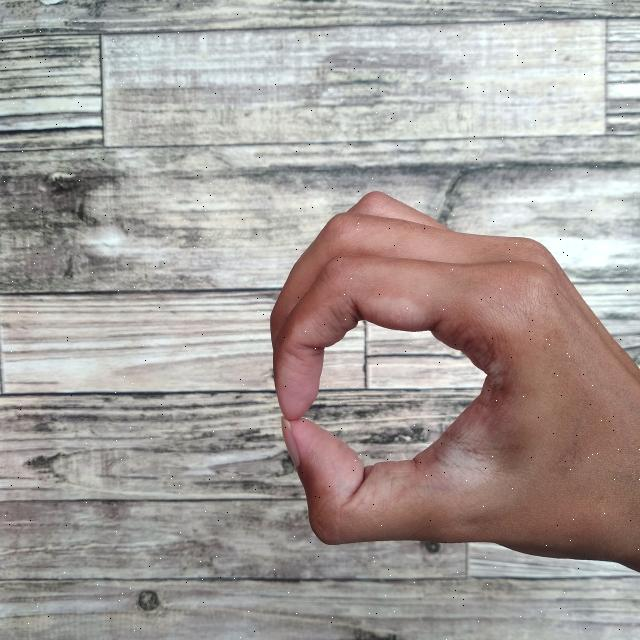O: (259, 180, 640, 576)
